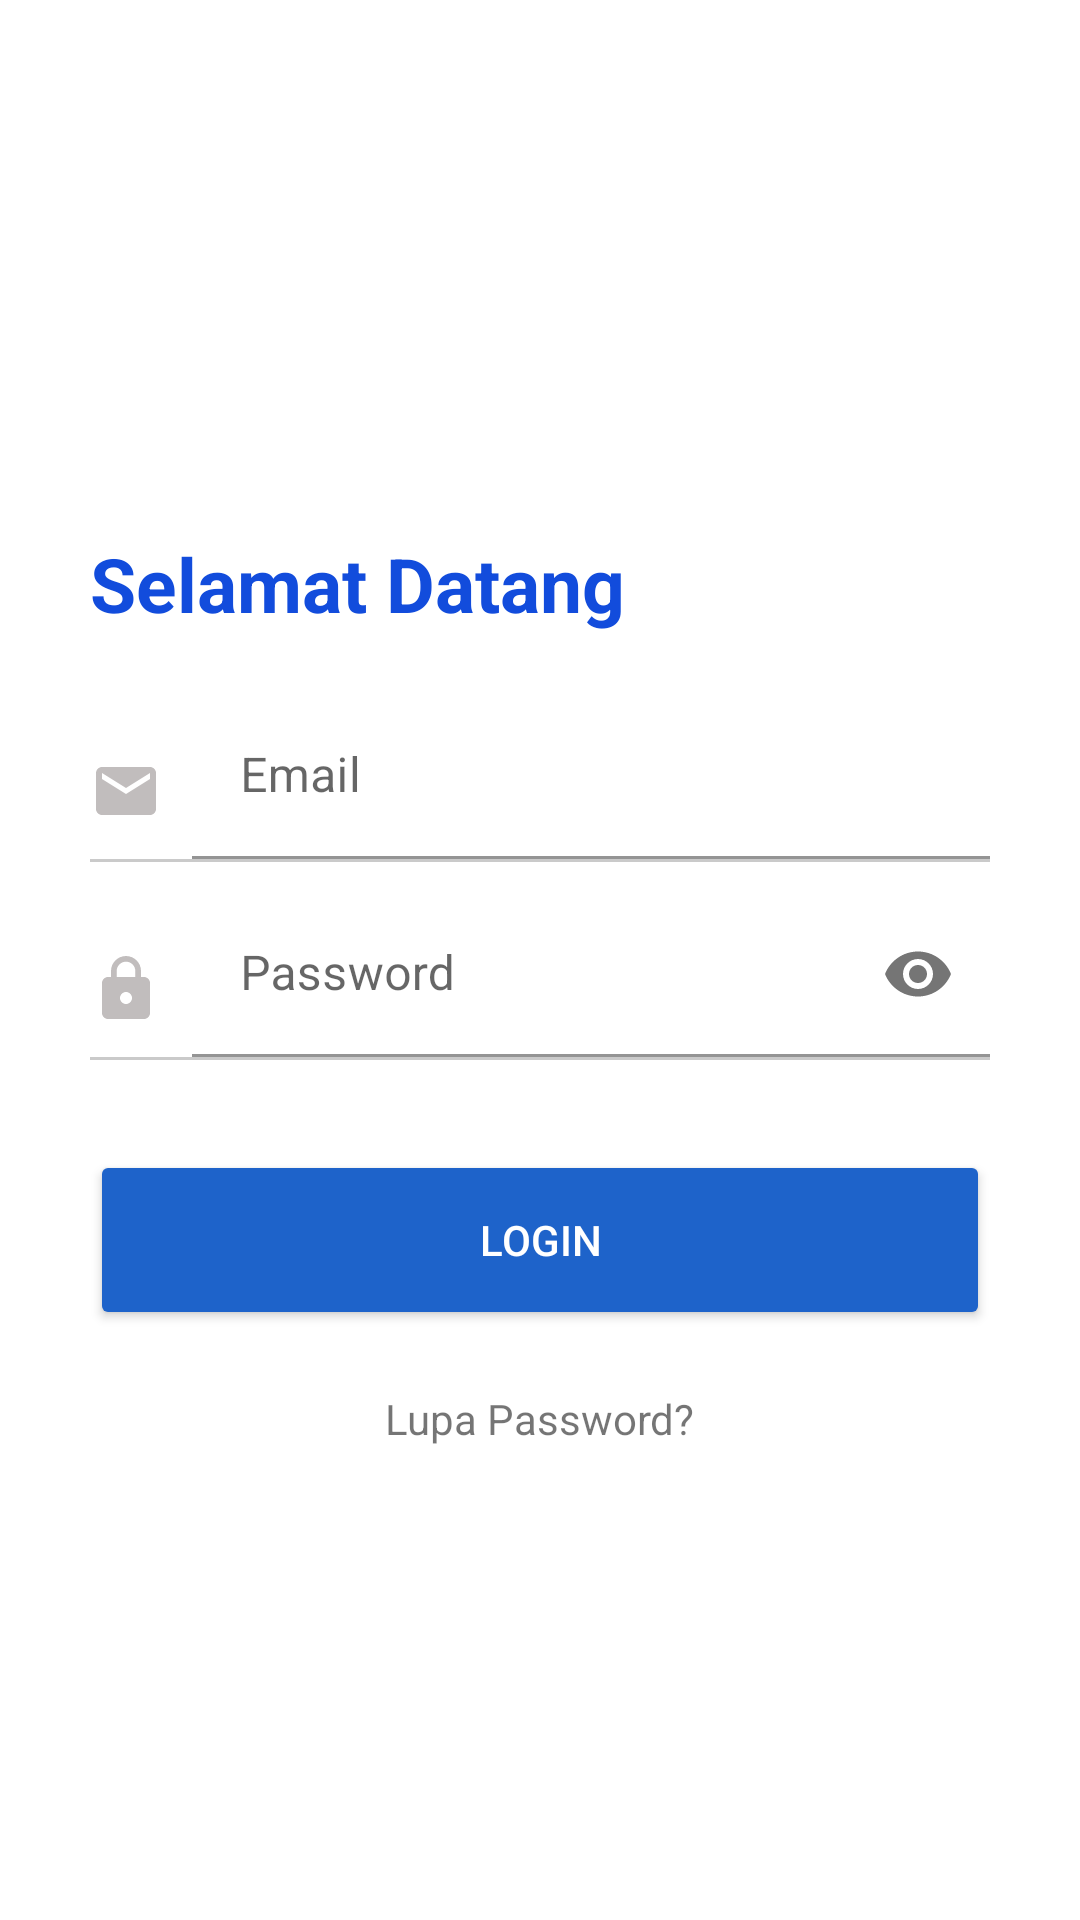

Locate icon controls on the screen. Image size 1080px×1920px, boxes as (x1, y1, x2, y2).
lock: (102, 956, 150, 1019)
